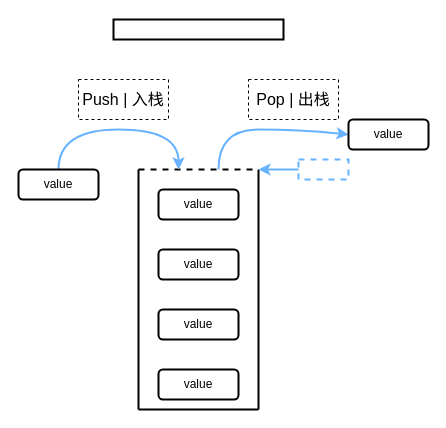
Image size: 446x428. Some labels were removed from this diagram. Each missing label, with the centre of its shape:
FILO: pixel 198 29
Top: pixel 323 169
